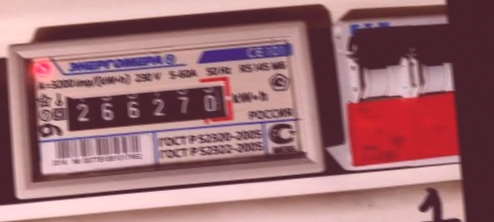0: (201, 91, 217, 112)
2: (74, 100, 89, 122), (151, 95, 166, 116)
6: (99, 99, 113, 121), (125, 98, 140, 118)
7: (177, 93, 189, 113)
screen: (52, 70, 239, 141)
